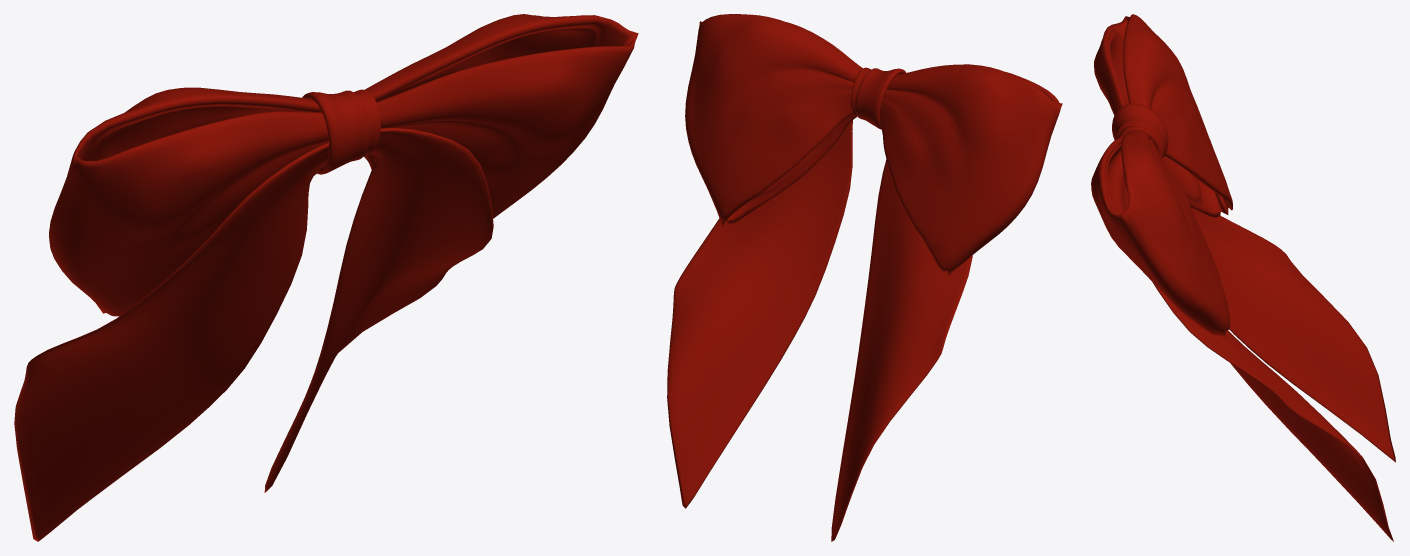
File: lvl1_ribbon.fbx
3 views of the same model, side by side, from view 1: azimuth 30°, elevation 25°; view 2: azimuth 150°, elevation 25°; view 3: azimuth 270°, elevation 25° (orthographic). The views are drawn at different scales.
Visible parts, largest first — view 1: bow:Bow Ribbon Backup; view 2: bow:Bow Ribbon Backup; view 3: bow:Bow Ribbon Backup.
Boxes of the visible parts, bbox=[...] form: bow:Bow Ribbon Backup: bbox=[14, 14, 638, 541]; bow:Bow Ribbon Backup: bbox=[667, 14, 1062, 541]; bow:Bow Ribbon Backup: bbox=[1091, 14, 1395, 541].
Bounding box in the file's own units: 0.4119 × 0.4236 × 0.2811.
